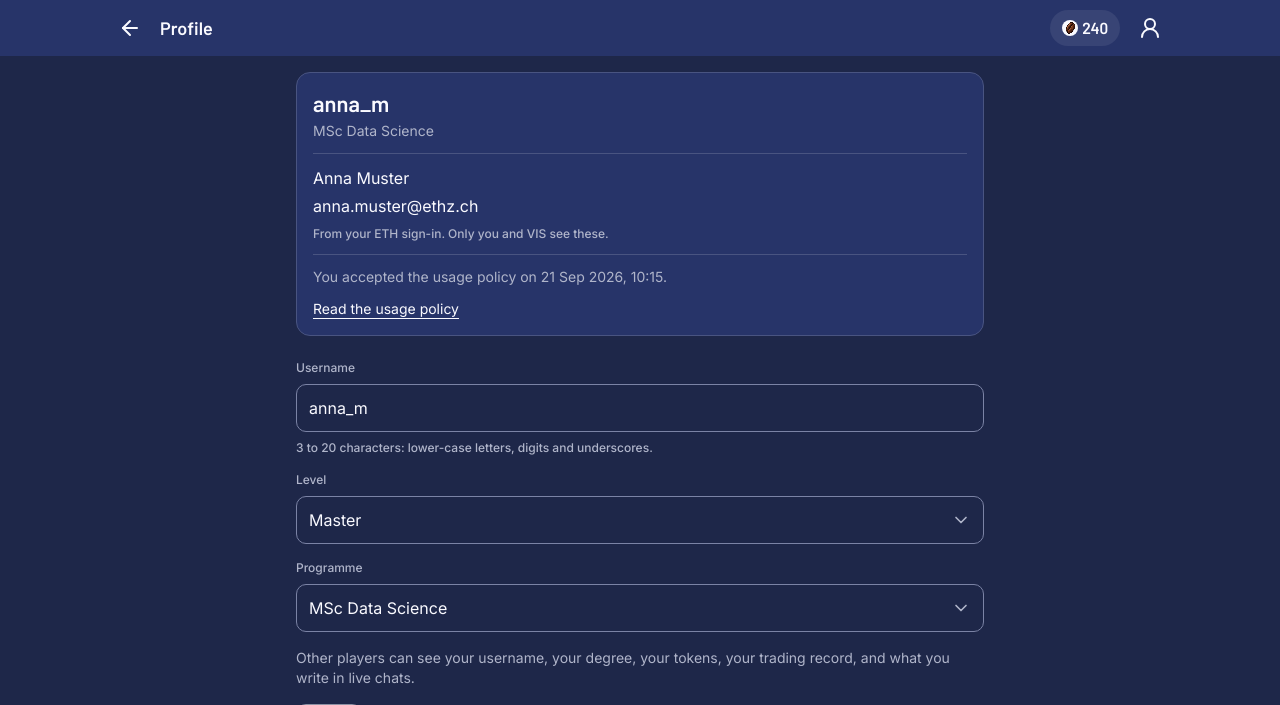
Test case: saving › USERNAME_TAKEN appears on the username field with the API's message; the other fields keep their input
Step 1. Replace the text in the field labelled "Username" with "polyterrasse" → (640, 408), box [296,384,984,432]
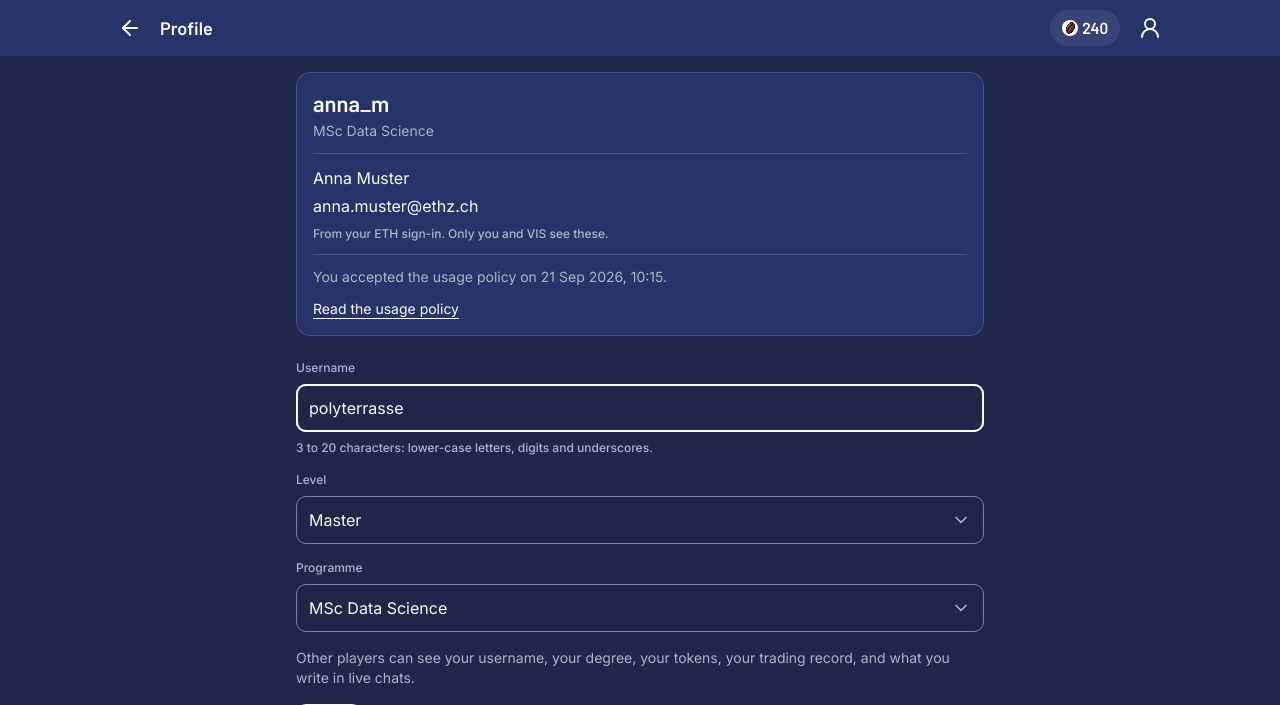
Step 2. Click the button with aria-label "Programme" → (378, 608), box [296,584,984,632]
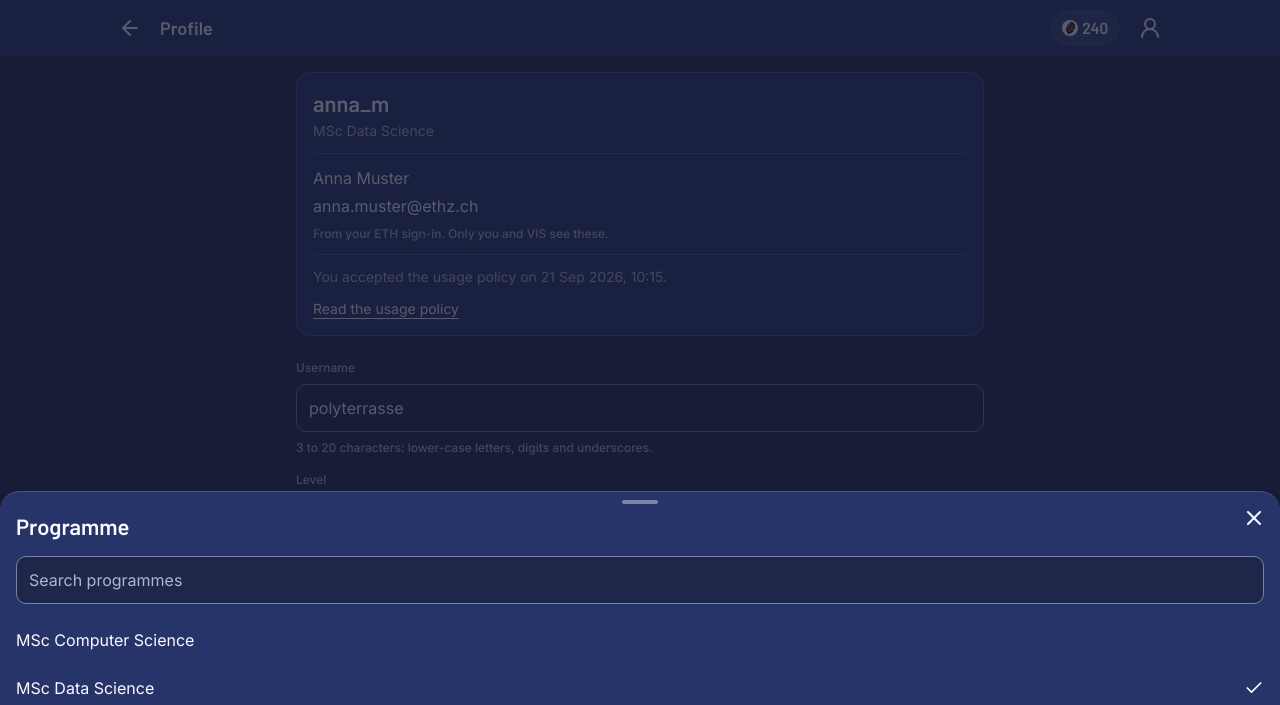
Step 3. Click the option "MSc Computer Science" → (105, 640), box [16,630,194,650]
(page scrolled)
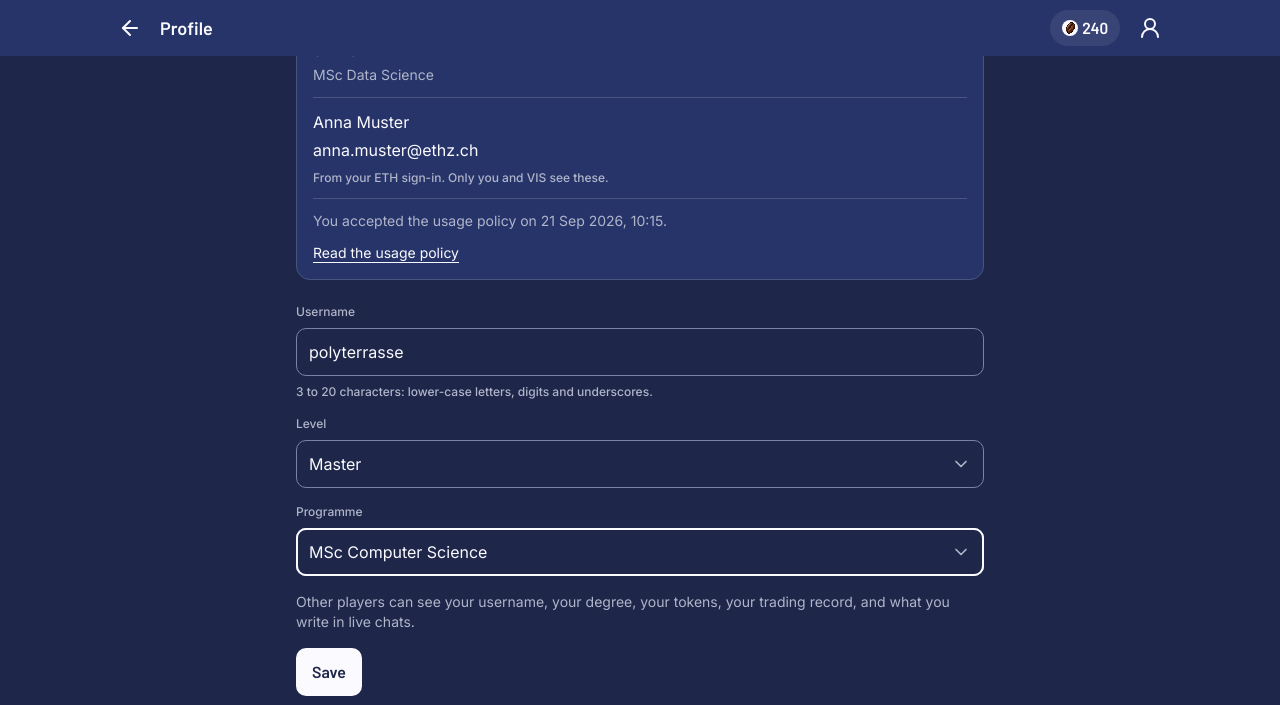
Step 4. Click the button "Save" → (329, 672), box [296,648,362,696]
(page scrolled)
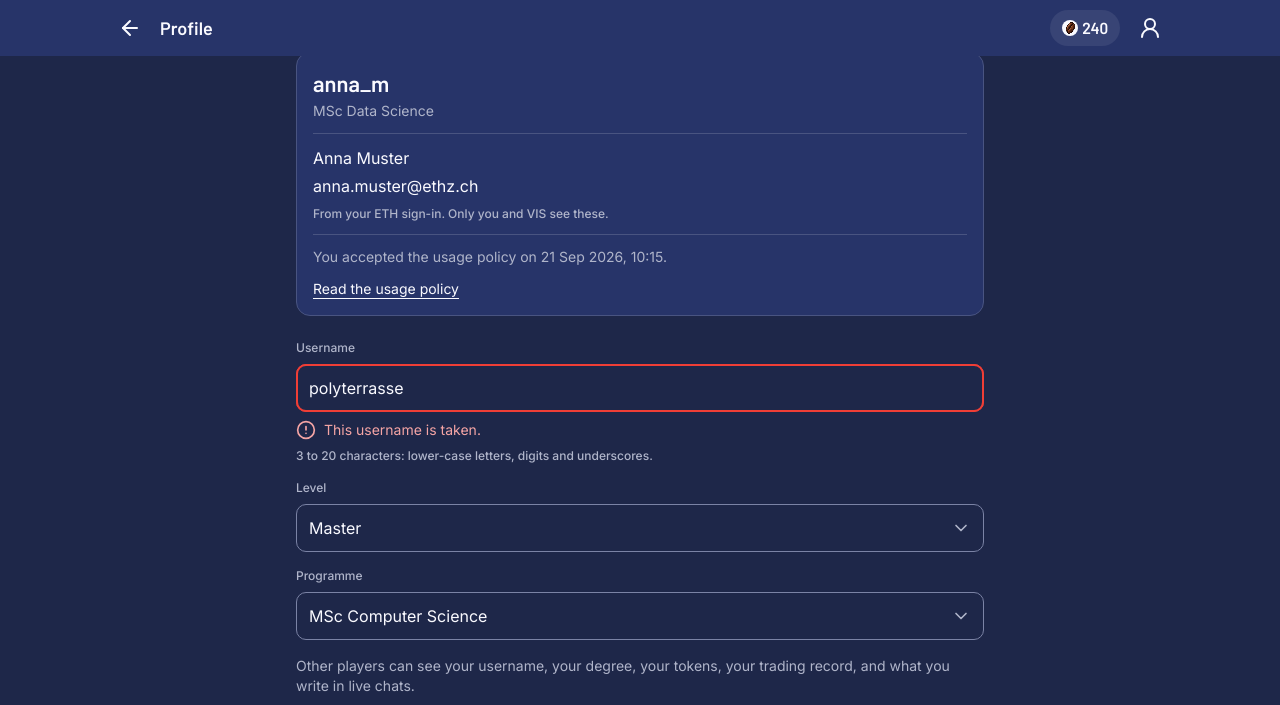
Expected: the button with aria-label "Level" holds "MASTER", [296,504,984,552]
Now the message reads "This username is taken.", box [324,421,481,438]
